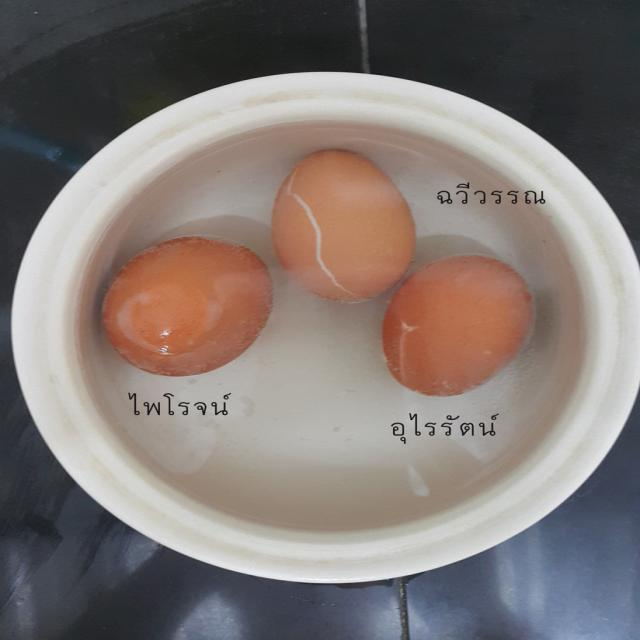Egg: (99, 236, 269, 376), (378, 256, 538, 398), (268, 150, 415, 304)
